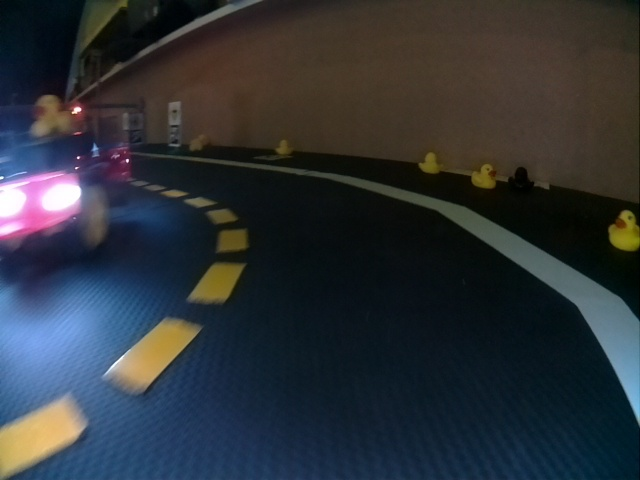Duckie: (32, 99, 72, 134), (609, 210, 639, 251), (472, 164, 496, 189), (420, 153, 441, 174), (188, 140, 202, 152), (276, 140, 290, 151)
Duckiebot: (0, 137, 110, 251)
Intersection sign: (169, 102, 181, 122)
QR code: (254, 155, 280, 163), (169, 127, 178, 147), (129, 131, 143, 143)
Traffic light: (71, 104, 83, 116)
